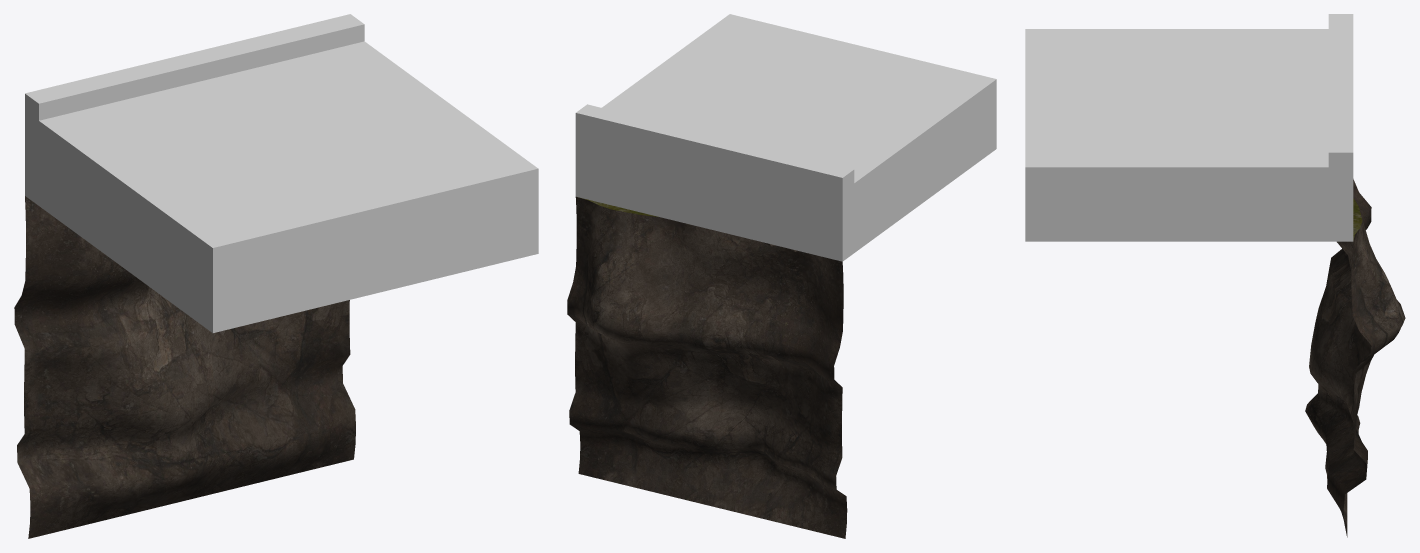
File: cliff_edge_straight_4m.glb
The picture shows the model from 3 angles, left to right: view 1: azimuth 30°, elevation 25°; view 2: azimuth 150°, elevation 25°; view 3: azimuth 270°, elevation 25°; orthographic projection. The views are drawn at different scales.
Visible parts, largest first — view 1: col_walk_cliff_edge_straight_4m, cliff_edge_straight_4m, col_block_rim_cliff_edge_straight_4m_0; view 2: cliff_edge_straight_4m, col_walk_cliff_edge_straight_4m, col_block_rim_cliff_edge_straight_4m_0; view 3: col_walk_cliff_edge_straight_4m, cliff_edge_straight_4m, col_block_rim_cliff_edge_straight_4m_0.
Boxes of the visible parts, x1,y1,x2,y2 form: col_walk_cliff_edge_straight_4m: (25,41,538,332); cliff_edge_straight_4m: (14,196,355,538); col_block_rim_cliff_edge_straight_4m_0: (25,14,364,203); cliff_edge_straight_4m: (567,196,847,538); col_walk_cliff_edge_straight_4m: (575,14,996,260); col_block_rim_cliff_edge_straight_4m_0: (575,104,854,261); col_walk_cliff_edge_straight_4m: (1025,29,1353,241); cliff_edge_straight_4m: (1305,179,1405,537); col_block_rim_cliff_edge_straight_4m_0: (1328,14,1353,241).
Bounding box in the file's own units: 4 × 5.2 × 4.64.
2 materials, 2 textured.
